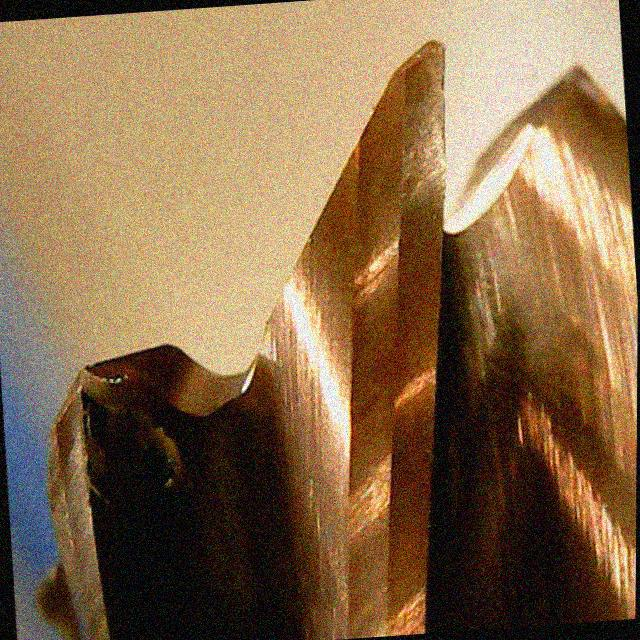Tool-wear-class-1: (325, 26, 474, 276)
